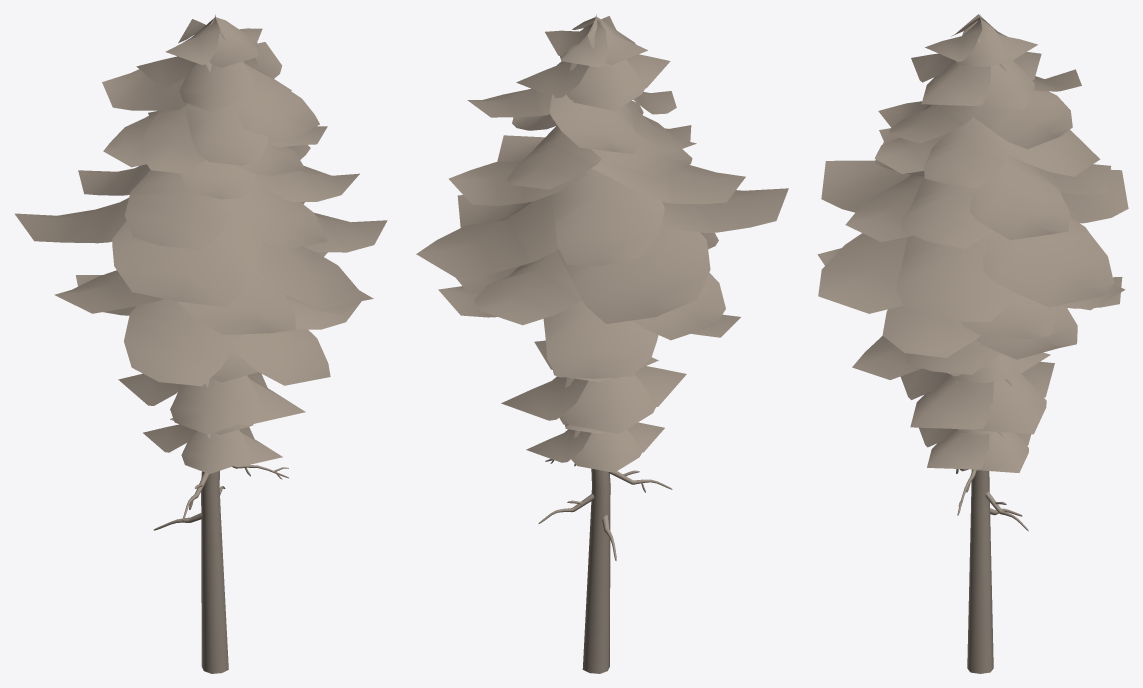
File: PineTree_2.glb
3 renders of one model, left to right at view 1: azimuth 30°, elevation 25°; view 2: azimuth 150°, elevation 25°; view 3: azimuth 270°, elevation 25°, orthographic.
Visible parts, largest first — view 1: PineTree_Leaves, PineTree_Bark; view 2: PineTree_Leaves, PineTree_Bark; view 3: PineTree_Leaves, PineTree_Bark.
Boxes of the visible parts, box(x1,y1,x2,y2) form: PineTree_Leaves: box(15, 17, 387, 473); PineTree_Bark: box(153, 14, 288, 673); PineTree_Leaves: box(416, 16, 788, 472); PineTree_Bark: box(538, 14, 672, 673); PineTree_Leaves: box(817, 14, 1128, 472); PineTree_Bark: box(956, 14, 1028, 673).
Size of the model in its own units: 3.28 by 6.91 by 2.98.
